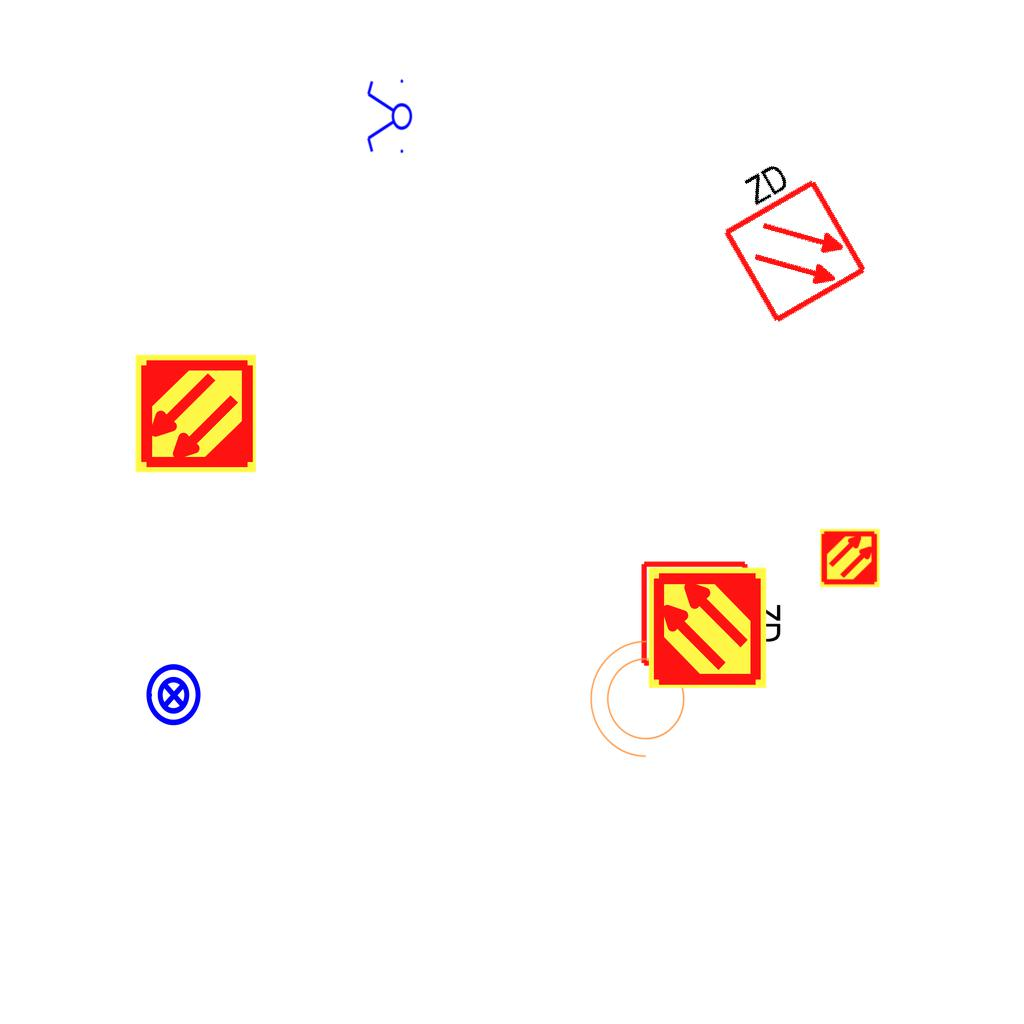ASR_Ansaugrauchmelder: (133, 351, 258, 476), (645, 565, 770, 690), (819, 527, 881, 589)
Scheinwerfer_fuer_Alarmbeleuchtung: (585, 636, 697, 768)
Serienschalter: (365, 75, 413, 159)
Taster_beleuchtet: (141, 662, 207, 728)
ZD_Melder_in_Zwischendecke_mit_Revisionsoeffnung_mind_40_x_40_cm: (697, 142, 871, 329), (639, 555, 788, 669)
